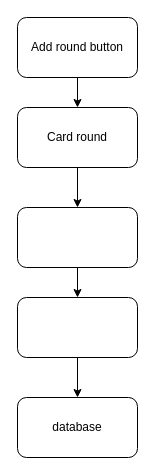
The diagram is 155 pixels wide and 475 high, and some of its shapes have lost their labels. The centre of each missing label's shape, as x and y in pixels:
"create criteria" goes at (77,237).
"submit the data from the round that is stored in array of objects" goes at (77,327).
